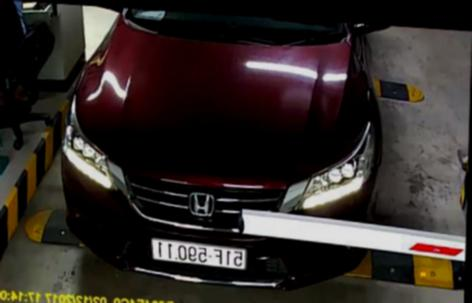License_Plate: (150, 237, 249, 271)
